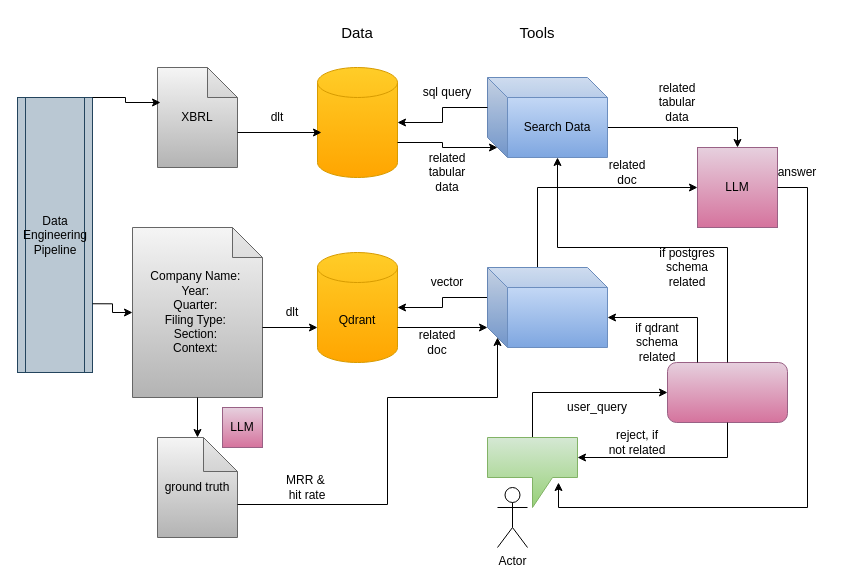
This 845x585 diagram has some shape labels left out. The shapes that lost their labels are listed below. From the top down, each one's centre as x and y in pixels, then its label:
At point 357,122: "Postgres".
At point 547,307: "Search Text".
At point 727,392: "guardrail LLM".
At point 532,472: "chat".
